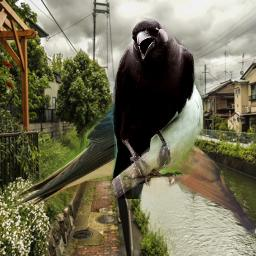Crow: (110, 18, 195, 199)
Cuckoo: (125, 106, 255, 234)
Swallow: (14, 56, 206, 207)
